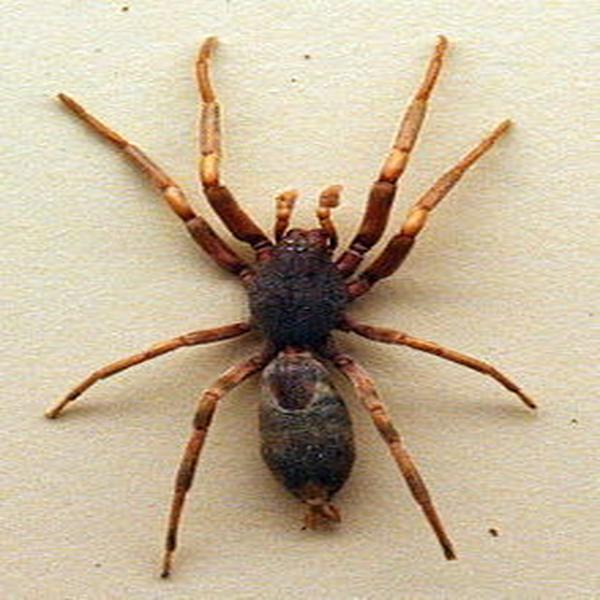White-Tailed Spider: (67, 40, 545, 558)
